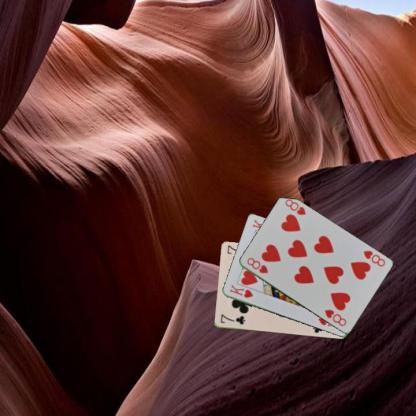7c: (218, 311, 246, 326)
8h: (360, 248, 386, 268), (244, 255, 269, 274)
Kh: (227, 282, 254, 299)
